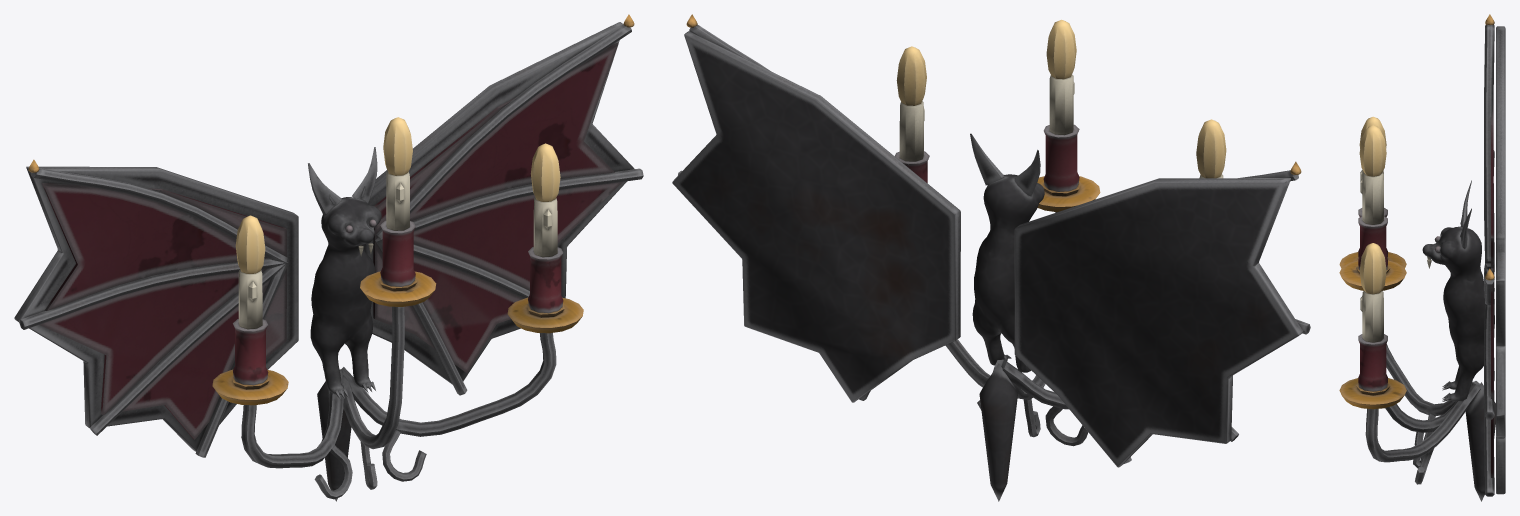
File: SconceBatWing.fbx
3 renders of one model, left to right at view 1: azimuth 30°, elevation 25°; view 2: azimuth 150°, elevation 25°; view 3: azimuth 270°, elevation 25°, orthographic. The views are drawn at different scales.
Parts seen in each view (by area): view 1: SconceBatWing_Main, SconceBatWing_Glow; view 2: SconceBatWing_Main, SconceBatWing_Glow; view 3: SconceBatWing_Main, SconceBatWing_Glow.
Part boxes in pixels (x1=…): SconceBatWing_Main: x1=14, y1=14, x2=643, y2=501; SconceBatWing_Glow: x1=235, y1=117, x2=560, y2=273; SconceBatWing_Main: x1=672, y1=14, x2=1310, y2=501; SconceBatWing_Glow: x1=896, y1=19, x2=1226, y2=178; SconceBatWing_Main: x1=1339, y1=14, x2=1505, y2=501; SconceBatWing_Glow: x1=1359, y1=116, x2=1386, y2=294.
Size of the model in its own units: 260 by 173 by 69.
